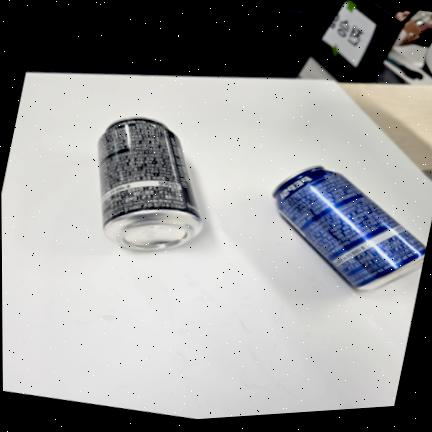can_pepsi: (273, 166, 426, 290)
can_pepsi_zero: (98, 117, 202, 251)
